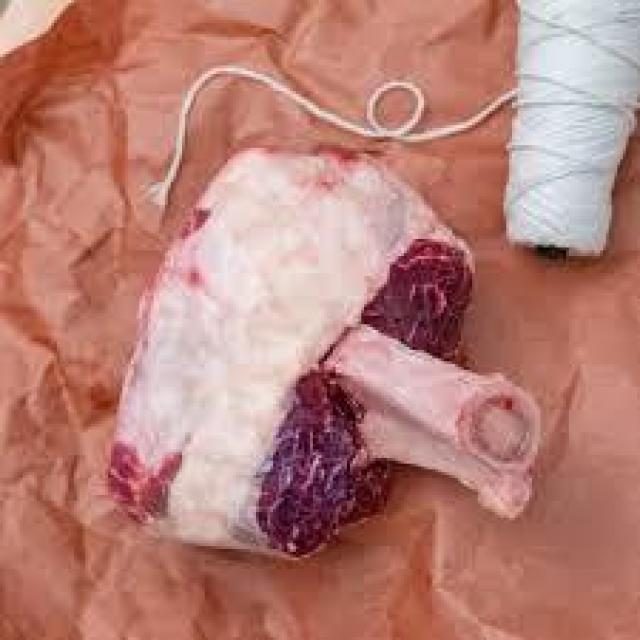beef: (100, 210, 537, 585)
